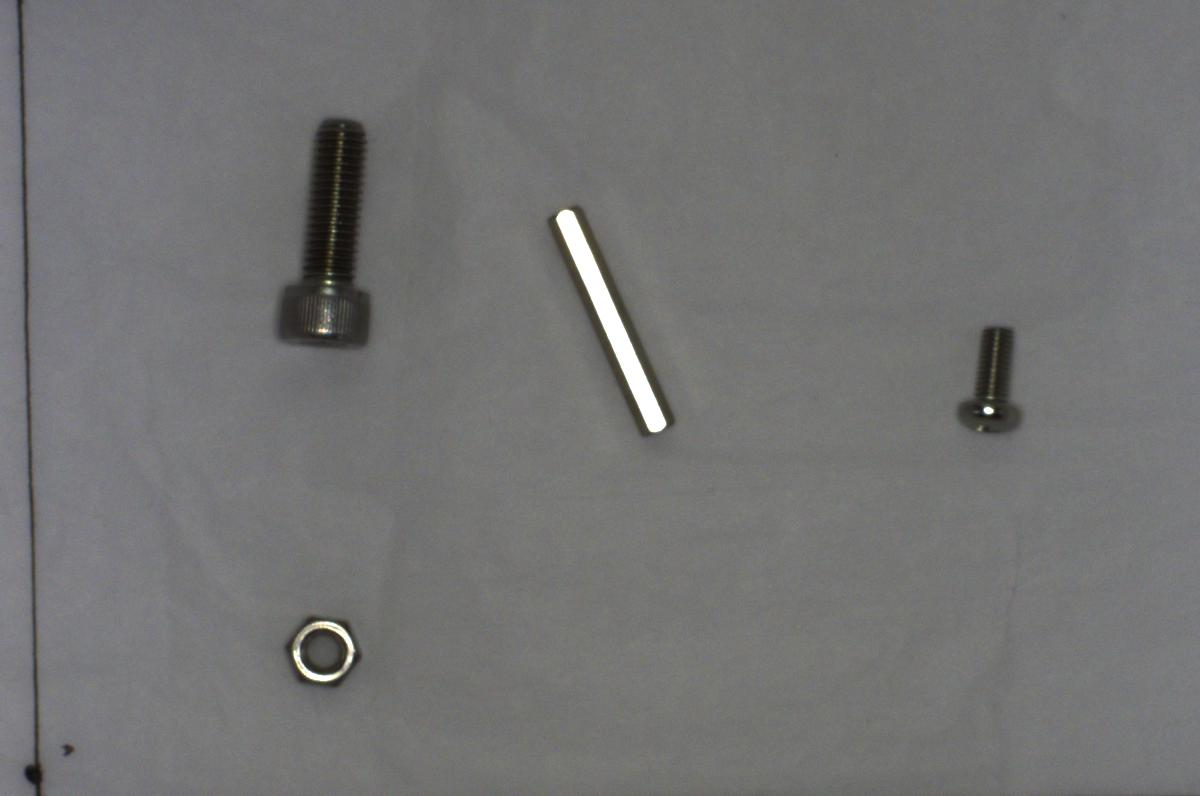Double hexagonal column: (540, 196, 682, 447)
Hexagon nut: (275, 605, 365, 693)
Hexagon screw: (259, 107, 386, 363)
Round head screw: (942, 315, 1033, 447)
